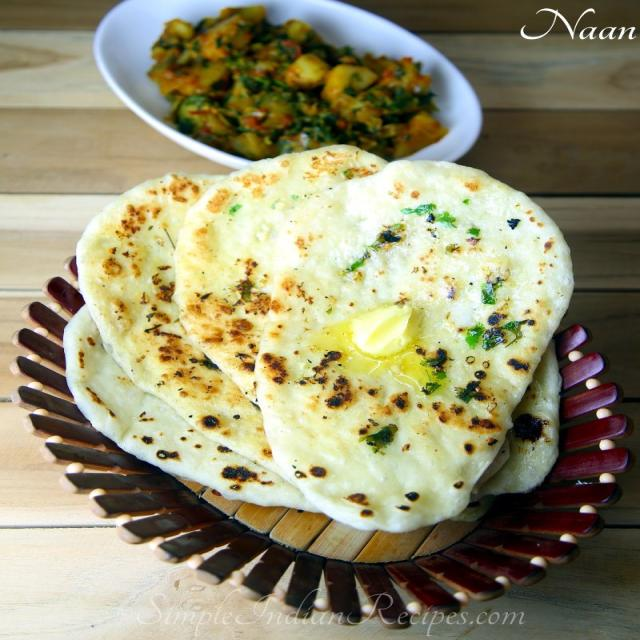butter naan: (61, 145, 581, 545)
